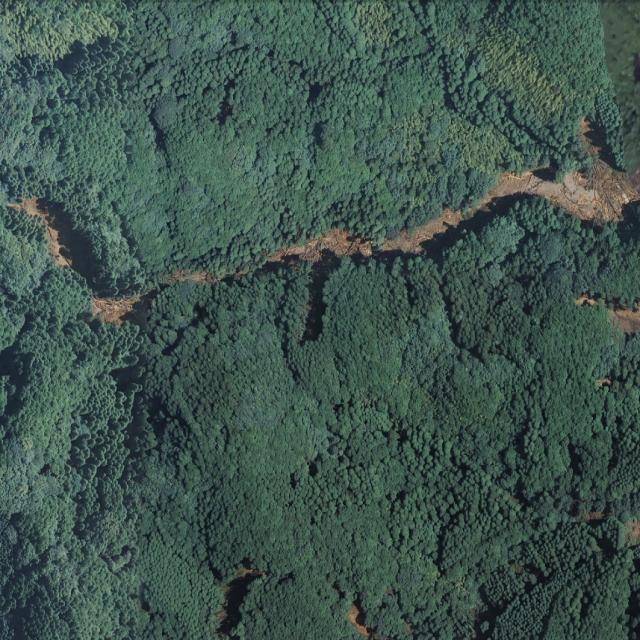landslide: (268, 117, 640, 262), (7, 196, 91, 283), (91, 297, 149, 324)
